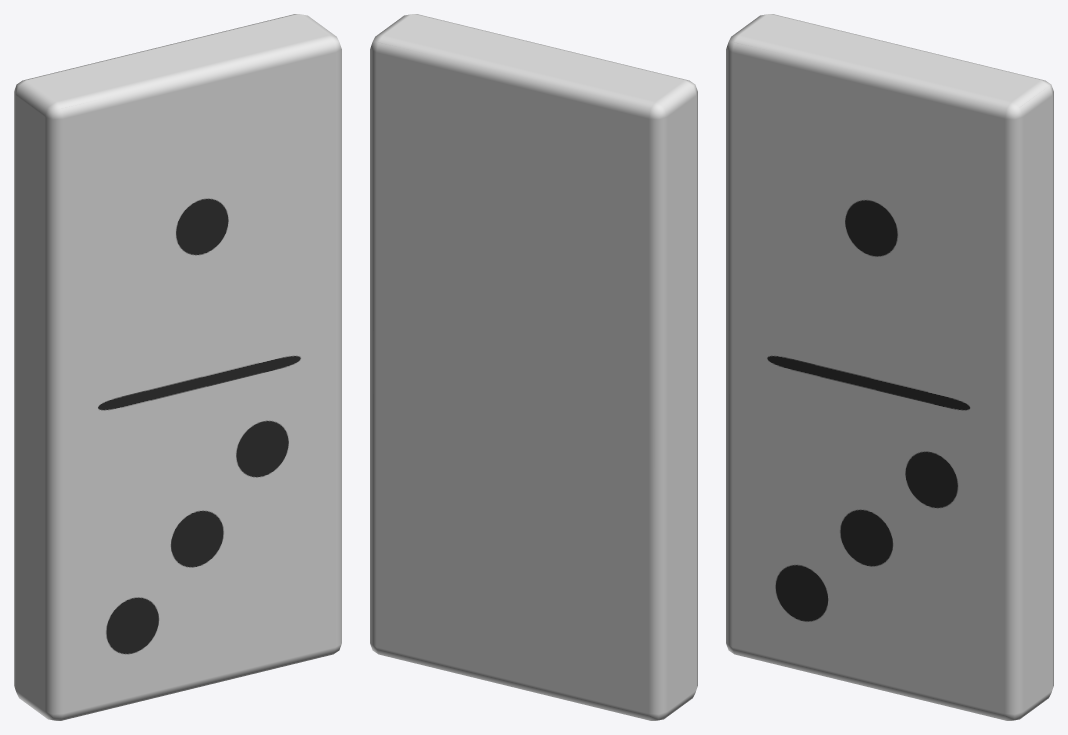
3 views of the same model, side by side, from view 1: azimuth 30°, elevation 25°; view 2: azimuth 150°, elevation 25°; view 3: azimuth 330°, elevation 25° (orthographic).
Parts seen in each view (by area): view 1: Low; view 2: Low; view 3: Low.
Boxes of the visible parts, x1,y1,x2,y2 form: Low: (14, 14, 341, 720); Low: (370, 14, 697, 720); Low: (726, 14, 1053, 720).
Size of the model in its own units: 0.0254 by 0.0508 by 0.00635.
1 material, 1 textured.
